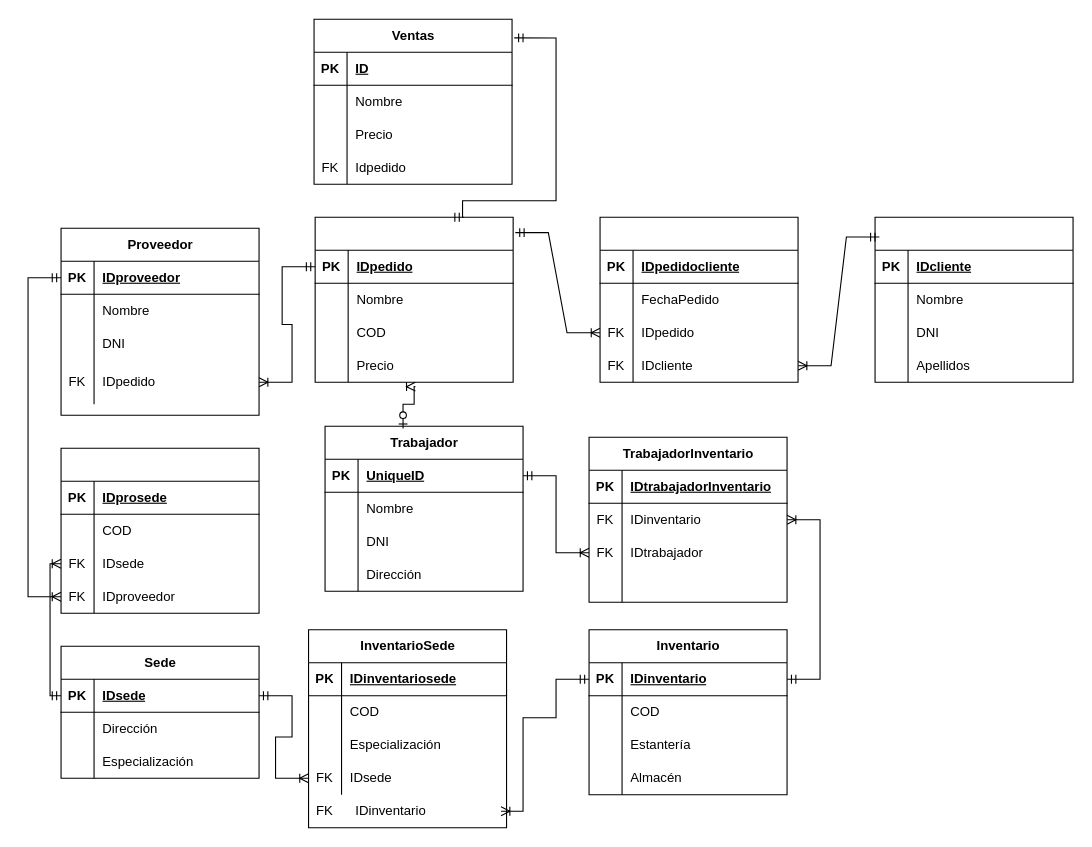
The diagram is 1092 pixels wide and 847 high, and some of its shapes have lost their labels. The shapes that lost their labels are listed below. From the top down, each one's box as (x1, y1, x2, y2) in pixels, then its label:
(314, 216, 513, 382): Pedidos
(599, 216, 798, 382): Pedidos-Clientes
(874, 216, 1073, 382): Clientes
(60, 447, 259, 613): ProveedorSede
